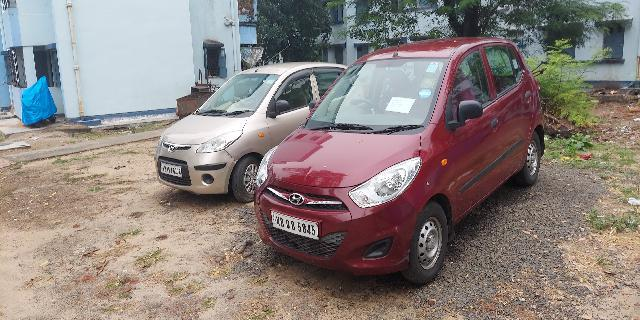Car: (249, 36, 559, 270), (156, 60, 343, 198)
